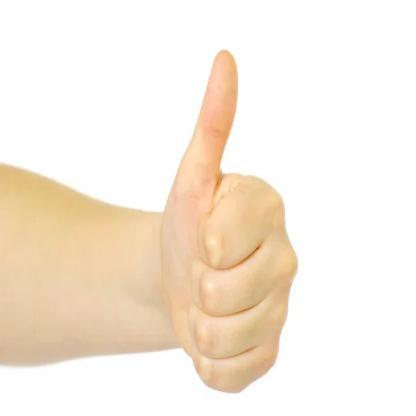thumb_up: (162, 47, 300, 393)
